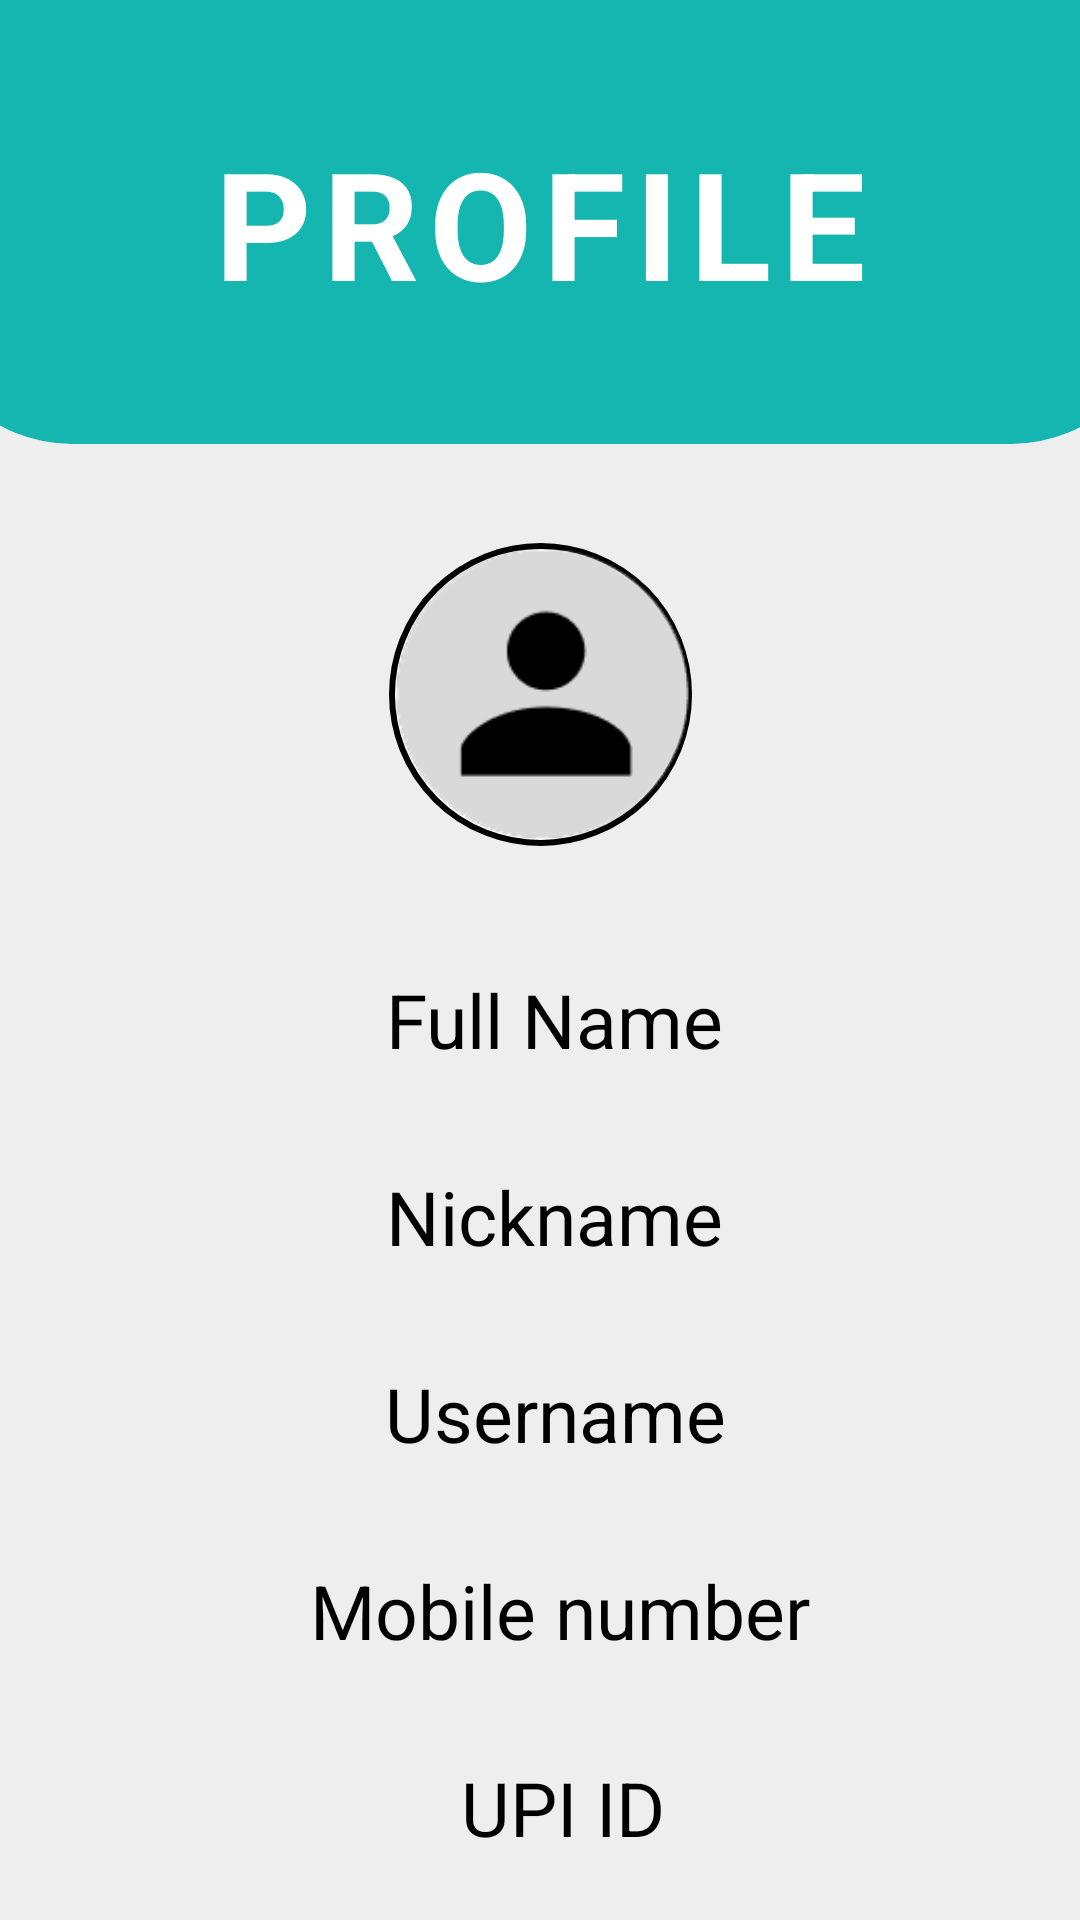

Icon bounding boxes for this 1080×1920 phone screenshot, format (x1, y1, x2, y2):
profile photo: (389, 549, 692, 846)
